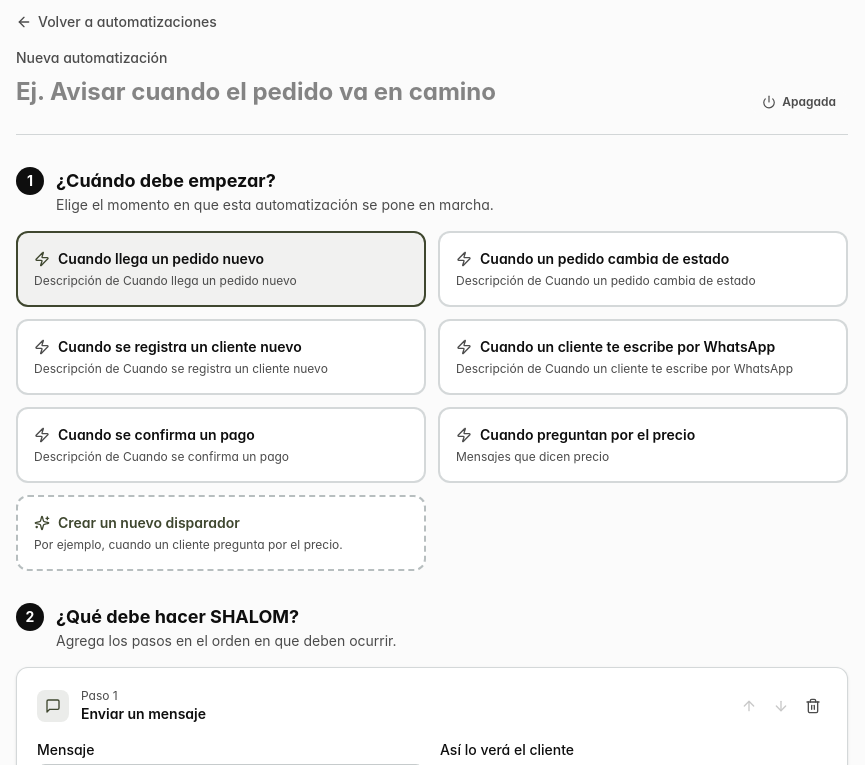
it: FlowBuilderPage › lists one card per trigger from the server, custom ones included
The width and height of the screenshot is (865, 765).
Click the button "Cuando preguntan por el precio Mensajes que dicen precio": (643, 445) [438, 407, 848, 483]
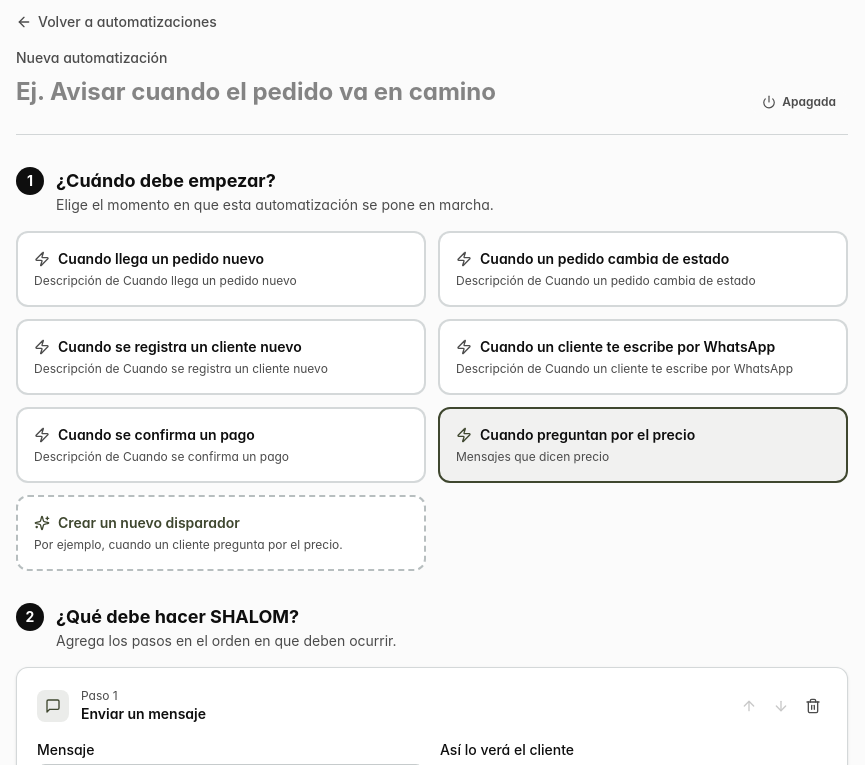
Check: the button "Cuando preguntan por el precio Mensajes que dicen precio" is pressed, box [438, 407, 848, 483]
